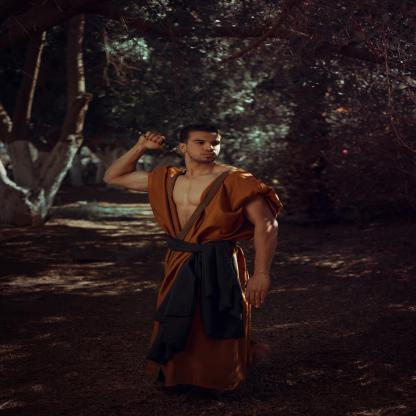Eye: (211, 142, 219, 146), (195, 142, 204, 145)
Mouth: (202, 152, 216, 157)
Nose: (204, 143, 215, 151)
